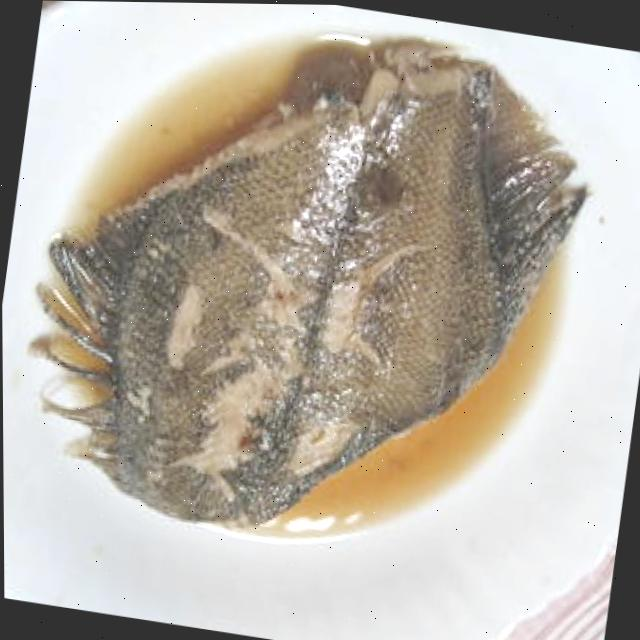熟制海鲜: (0, 0, 611, 620)
